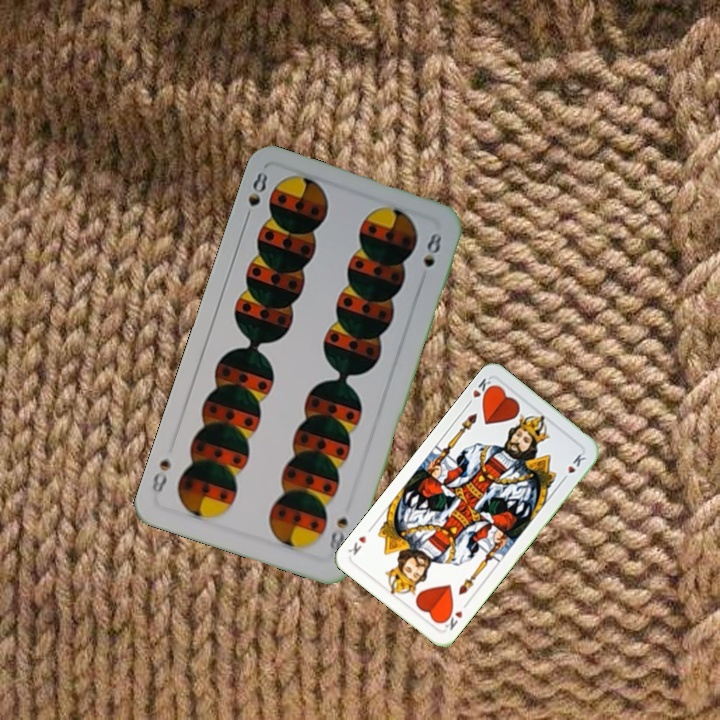HK: (462, 374, 497, 409), (437, 598, 471, 633)
S8: (240, 168, 271, 225), (325, 513, 351, 560)
